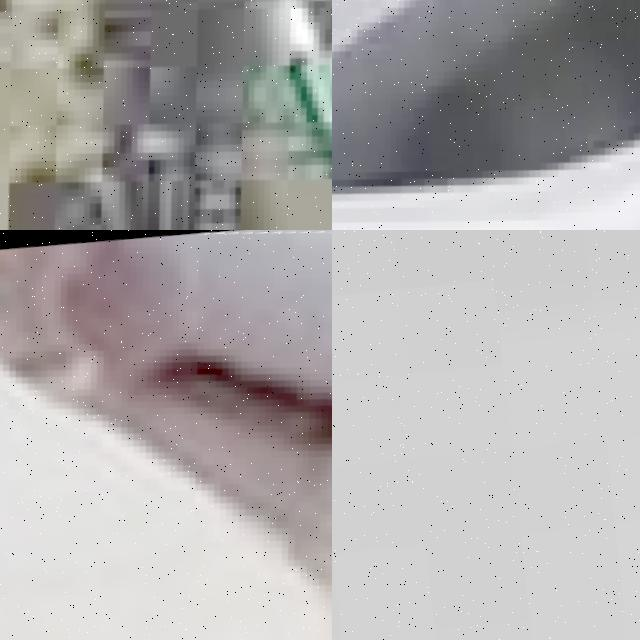0: (0, 0, 332, 230)
drone: (0, 230, 332, 640), (332, 0, 640, 230)
